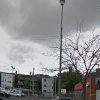Tree: (63, 44, 100, 95)
